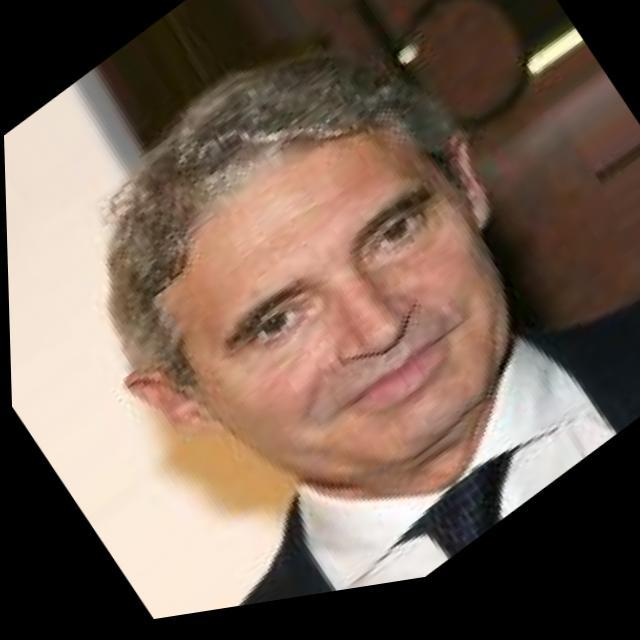Nonhelmet: (99, 36, 543, 496)
